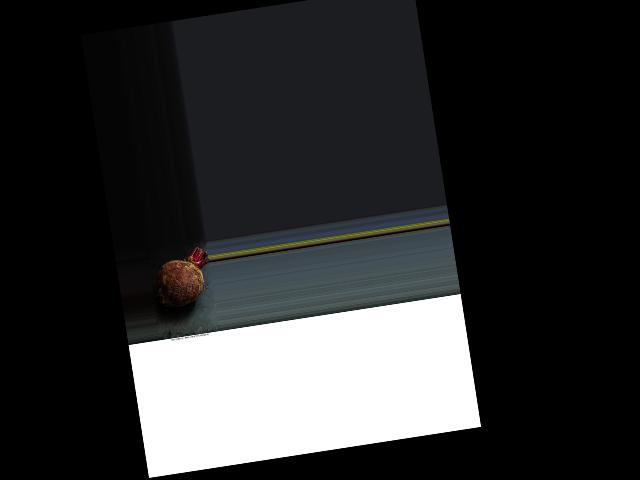beet: (151, 246, 215, 309)
